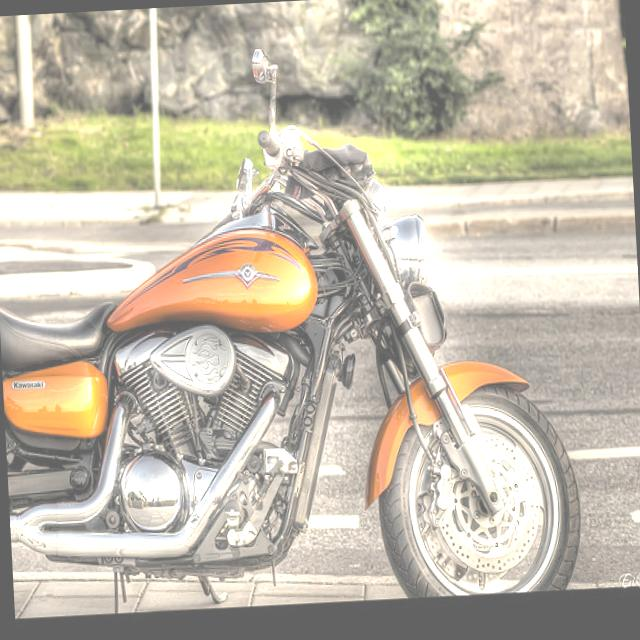Vehicle: (0, 29, 584, 620)
